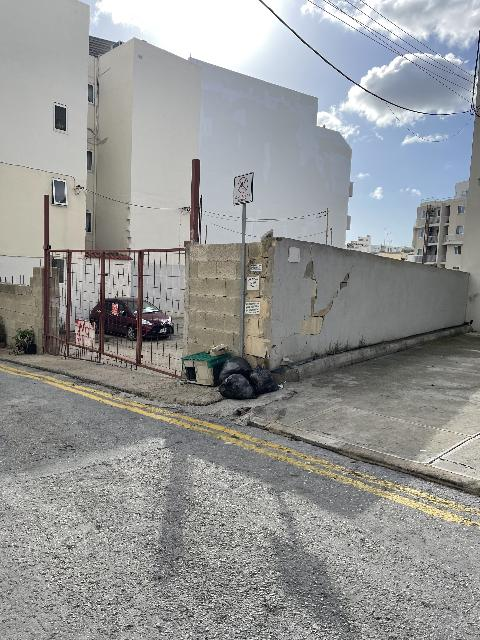Mixed -Black-: (218, 374, 256, 399), (249, 365, 279, 395), (220, 356, 252, 383)
Other: (181, 351, 231, 386), (207, 343, 228, 356)
